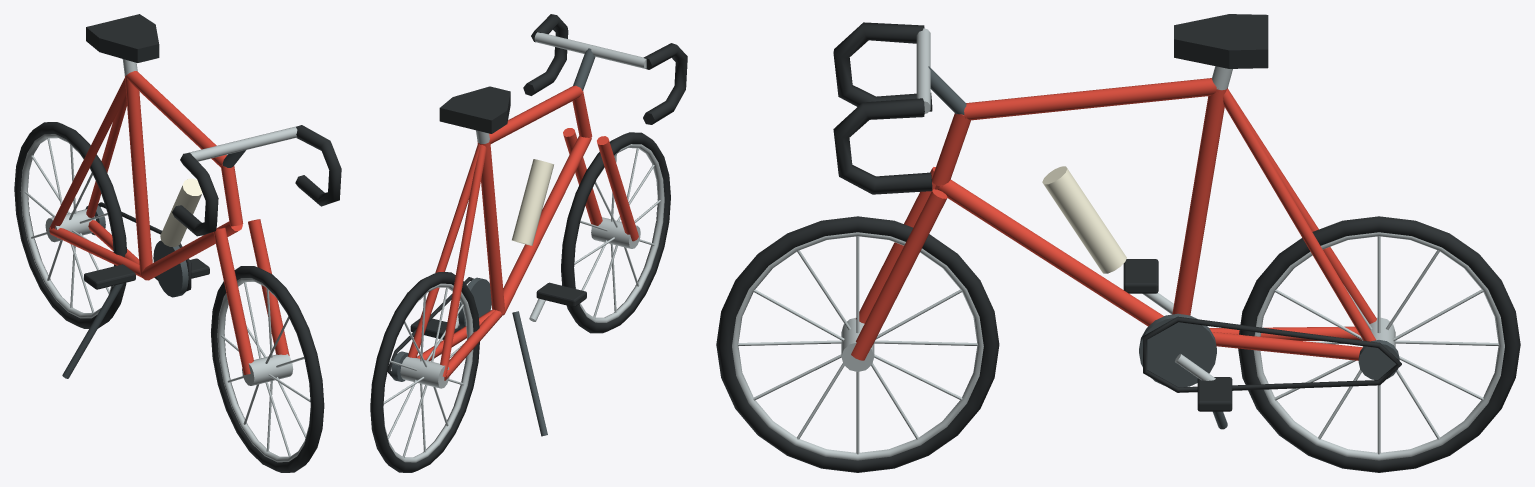
Rendered from bicycle_road.glb.
3 views of the same model, side by side, from view 1: azimuth 30°, elevation 25°; view 2: azimuth 150°, elevation 25°; view 3: azimuth 270°, elevation 25° (orthographic). The views are drawn at different scales.
Visible parts, largest first — view 1: Road_Bicycle_Front_Tire, Road_Bicycle_Rear_Tire, Road_Bicycle_Saddle, Road_Bicycle_Seat_Tube, Road_Bicycle_Fork_-1, Road_Bicycle_Rear_Rim, Road_Bicycle_Drop_Handlebar_1, Road_Bicycle_Drop_Handlebar_-1, Road_Bicycle_Front_Rim, Road_Bicycle_Top_Tube, Road_Bicycle_Seat_Stay_-1, Road_Bicycle_Fork_1 (+12 smaller); view 2: Road_Bicycle_Rear_Tire, Road_Bicycle_Front_Tire, Road_Bicycle_Saddle, Road_Bicycle_Down_Tube, Road_Bicycle_Seat_Tube, Road_Bicycle_Seat_Stay_-1, Road_Bicycle_Bottle, Road_Bicycle_Seat_Stay_1, Road_Bicycle_Front_Rim, Road_Bicycle_Drop_Handlebar_-1, Road_Bicycle_Rear_Rim, Road_Bicycle_Fork_-1 (+15 smaller); view 3: Road_Bicycle_Front_Tire, Road_Bicycle_Rear_Tire, Road_Bicycle_Front_Rim, Road_Bicycle_Rear_Rim, Road_Bicycle_Saddle, Road_Bicycle_Top_Tube, Road_Bicycle_Down_Tube, Road_Bicycle_Seat_Tube, Road_Bicycle_Drop_Handlebar_1, Road_Bicycle_Chainring, Road_Bicycle_Seat_Stay_1, Road_Bicycle_Bottle (+13 smaller).
Boxes of the visible parts, x1,y1,x2,y2 form: Road_Bicycle_Front_Tire: (211, 266, 324, 472); Road_Bicycle_Rear_Tire: (14, 122, 126, 328); Road_Bicycle_Saddle: (86, 14, 159, 62); Road_Bicycle_Seat_Tube: (125, 76, 152, 275); Road_Bicycle_Fork_-1: (213, 227, 253, 374); Road_Bicycle_Rear_Rim: (20, 134, 111, 318); Road_Bicycle_Drop_Handlebar_1: (295, 125, 341, 206); Road_Bicycle_Drop_Handlebar_-1: (172, 152, 218, 236); Road_Bicycle_Front_Rim: (217, 278, 310, 462); Road_Bicycle_Top_Tube: (126, 71, 226, 167); Road_Bicycle_Seat_Stay_-1: (49, 78, 126, 228); Road_Bicycle_Fork_1: (248, 219, 289, 355); Road_Bicycle_Rear_Tire: (370, 272, 479, 472); Road_Bicycle_Front_Tire: (561, 132, 670, 333); Road_Bicycle_Saddle: (439, 86, 510, 133); Road_Bicycle_Down_Tube: (503, 136, 591, 315); Road_Bicycle_Seat_Tube: (477, 141, 505, 314); Road_Bicycle_Seat_Stay_-1: (440, 144, 486, 376); Road_Bicycle_Bottle: (512, 159, 553, 245); Road_Bicycle_Seat_Stay_1: (407, 144, 480, 357); Road_Bicycle_Front_Rim: (574, 144, 664, 322); Road_Bicycle_Drop_Handlebar_-1: (643, 43, 687, 124); Road_Bicycle_Rear_Rim: (383, 283, 473, 462); Road_Bicycle_Fork_-1: (597, 136, 638, 241); Road_Bicycle_Front_Tire: (716, 216, 999, 472); Road_Bicycle_Rear_Tire: (1238, 216, 1520, 472); Road_Bicycle_Front_Rim: (732, 232, 983, 460); Road_Bicycle_Rear_Rim: (1253, 232, 1504, 460); Road_Bicycle_Saddle: (1174, 14, 1268, 68); Road_Bicycle_Top_Tube: (964, 78, 1218, 120); Road_Bicycle_Down_Tube: (935, 179, 1163, 326); Road_Bicycle_Seat_Tube: (1172, 88, 1227, 315); Road_Bicycle_Drop_Handlebar_1: (833, 98, 932, 194); Road_Bicycle_Chainring: (1139, 313, 1216, 387); Road_Bicycle_Seat_Stay_1: (1223, 89, 1375, 341); Road_Bicycle_Bottle: (1042, 166, 1126, 273).
Bounding box in the file's own units: 0.53 × 1.18 × 1.96.
